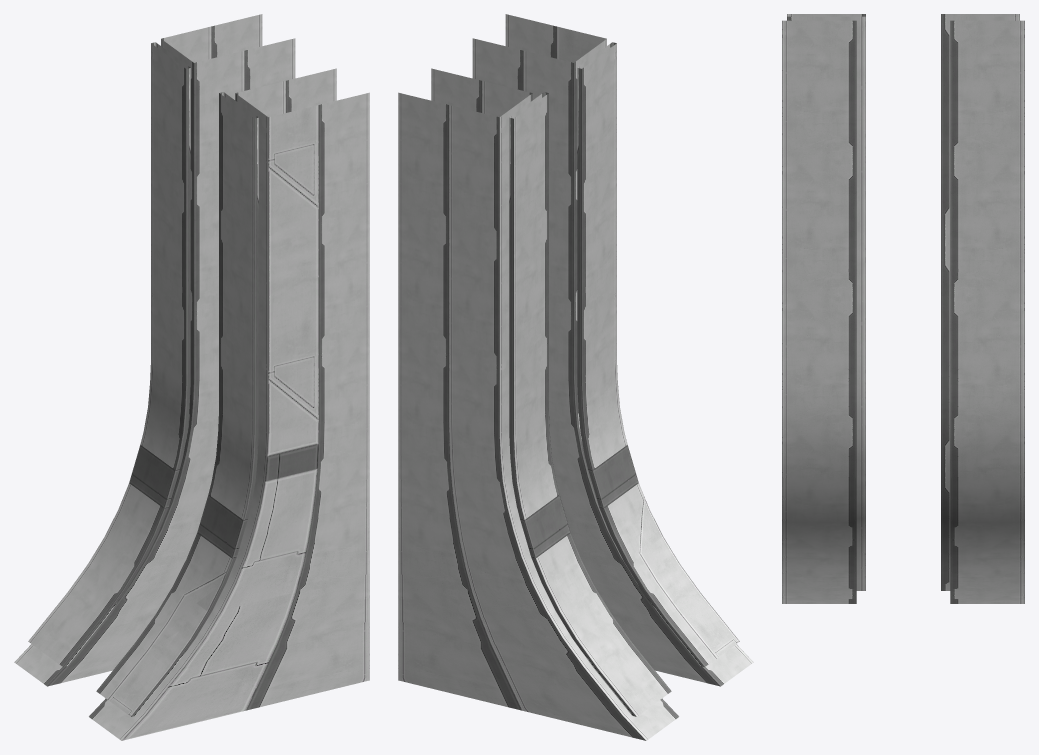
File: PRS_CurvedSupport.FBX
3 renders of one model, left to right at view 1: azimuth 30°, elevation 25°; view 2: azimuth 150°, elevation 25°; view 3: azimuth 270°, elevation 25°, orthographic. The views are drawn at different scales.
Parts seen in each view (by area): view 1: PRS_CurvedSupport; view 2: PRS_CurvedSupport; view 3: PRS_CurvedSupport.
Part boxes in pixels (x1,y1,x2,y2): PRS_CurvedSupport: (14,14,369,740); PRS_CurvedSupport: (398,14,753,740); PRS_CurvedSupport: (782,14,1024,603).
Size of the model in its own units: 104 by 236 by 78.
